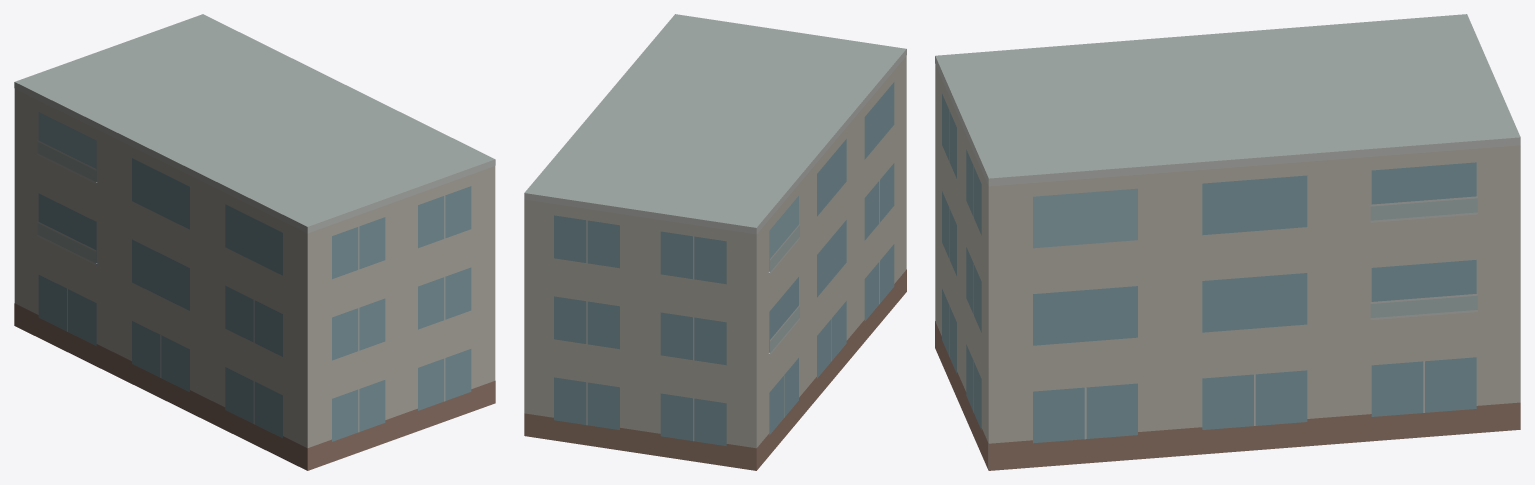
File: survey-upis-32708127.glb
3 views of the same model, side by side, from view 1: azimuth 30°, elevation 25°; view 2: azimuth 150°, elevation 25°; view 3: azimuth 270°, elevation 25° (orthographic). The views are drawn at different scales.
Parts seen in each view (by area): view 1: survey-upis-32708127.tmp; view 2: survey-upis-32708127.tmp; view 3: survey-upis-32708127.tmp.
Part boxes in pixels (x1,y1,x2,y2): survey-upis-32708127.tmp: (14,14,495,470); survey-upis-32708127.tmp: (524,14,906,470); survey-upis-32708127.tmp: (935,14,1520,470).
Size of the model in its own units: 11.05 by 9.15 by 16.62.
